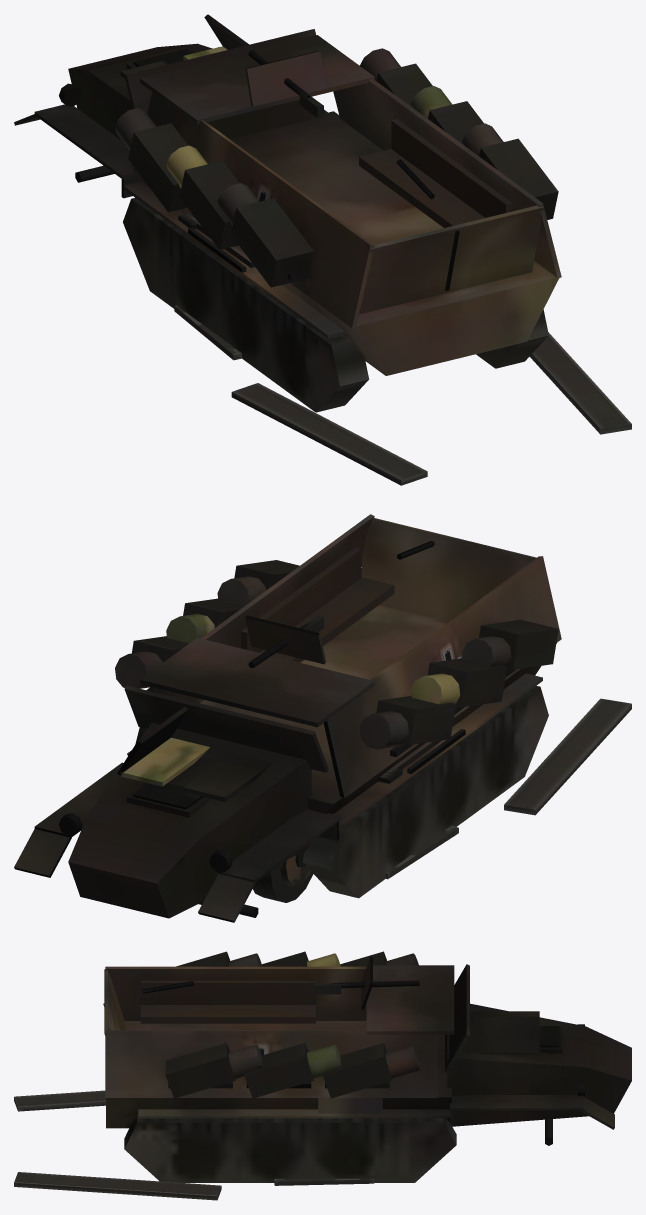
Rendered from sdkfz251_rocket.glb.
The picture shows the model from 3 angles, top to bottom: view 1: azimuth 30°, elevation 25°; view 2: azimuth 150°, elevation 25°; view 3: azimuth 270°, elevation 25°; orthographic projection. The views are drawn at different scales.
Parts seen in each view (by area): view 1: hull_ko, hull_trackL, hull_trackR, hull_ok; view 2: hull_ko, hull_trackL, hull_ok, wheels_R_17_ko; view 3: hull_ko, hull_trackR, hull_trackL, hull_ok.
Boxes of the visible parts, bbox=[...] form: hull_ko: bbox=[14, 14, 561, 412]; hull_trackL: bbox=[174, 305, 427, 485]; hull_trackR: bbox=[529, 332, 631, 434]; hull_ok: bbox=[166, 46, 452, 188]; hull_ko: bbox=[14, 514, 561, 922]; hull_trackL: bbox=[385, 698, 631, 879]; hull_ok: bbox=[120, 614, 460, 786]; wheels_R_17_ko: bbox=[258, 865, 313, 902]; hull_ko: bbox=[103, 951, 631, 1182]; hull_trackR: bbox=[14, 1172, 374, 1200]; hull_trackL: bbox=[14, 1090, 105, 1111]; hull_ok: bbox=[307, 953, 340, 1079].
Size of the model in its own units: 2.91 by 2.5 by 6.7.
12 materials, 12 textured.
